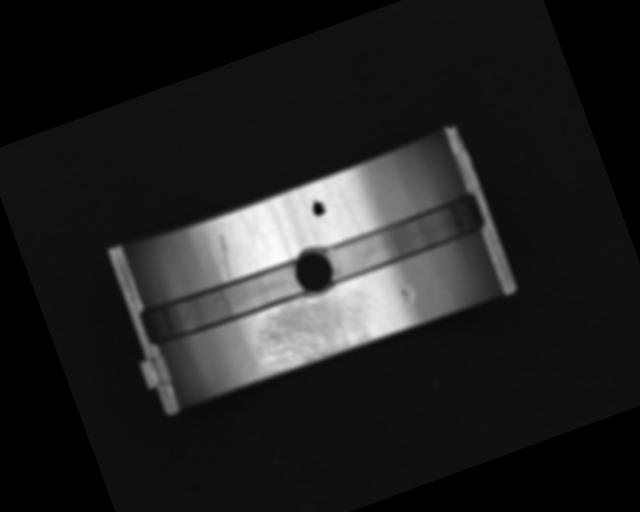blot: (306, 193, 329, 219)
bruise: (399, 285, 418, 306)
gap: (137, 257, 305, 351), (319, 191, 486, 285)
hole: (286, 240, 340, 300)
nick: (204, 231, 240, 282), (339, 191, 362, 236)
scratch: (241, 277, 383, 380)
